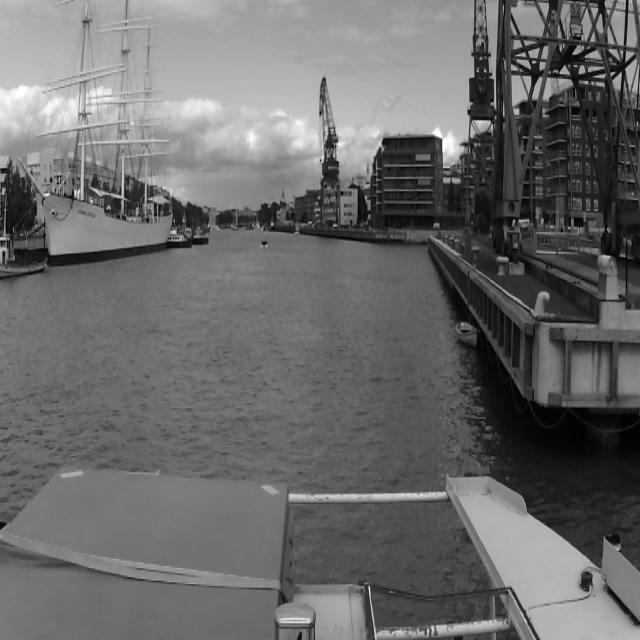ship: (20, 7, 170, 268), (166, 217, 192, 247), (457, 320, 480, 346), (232, 208, 238, 230), (244, 224, 254, 230), (261, 241, 268, 248)
